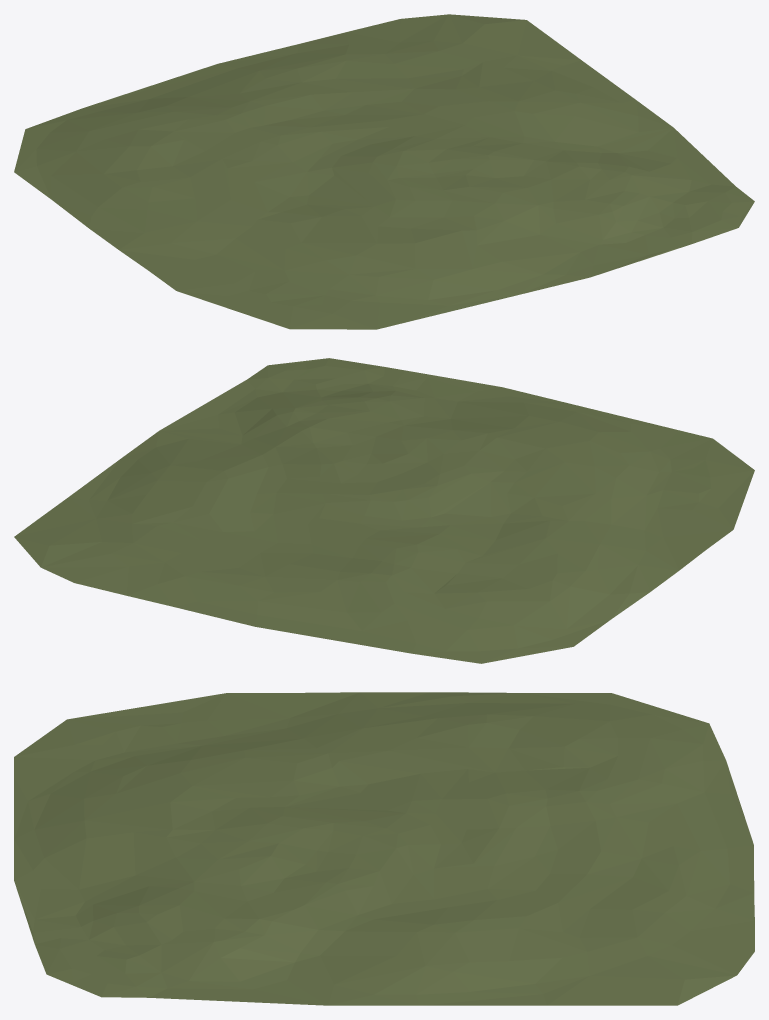
File: SM_Envr_Nature_Terrain_Ground_09.fbx
3 renders of one model, top to bottom at view 1: azimuth 30°, elevation 25°; view 2: azimuth 150°, elevation 25°; view 3: azimuth 270°, elevation 25°, orthographic. The views are drawn at different scales.
Visible parts, largest first — view 1: SM_Envr_Nature_Terrain_Ground_09; view 2: SM_Envr_Nature_Terrain_Ground_09; view 3: SM_Envr_Nature_Terrain_Ground_09.
Boxes of the visible parts, box(x1,y1,x2,y2) form: SM_Envr_Nature_Terrain_Ground_09: box(14, 14, 754, 329); SM_Envr_Nature_Terrain_Ground_09: box(14, 358, 754, 663); SM_Envr_Nature_Terrain_Ground_09: box(14, 692, 754, 1005).
Bounding box in the file's own units: 1404 × 38.31 × 1402.
